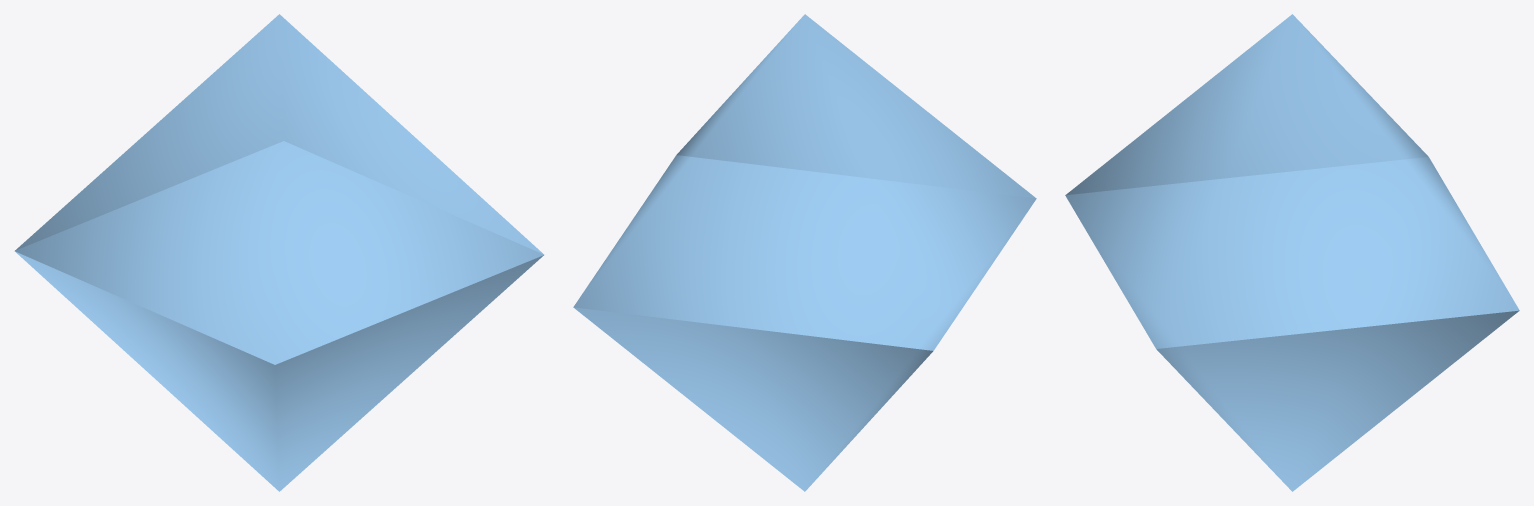
3 views of the same model, side by side, from view 1: azimuth 30°, elevation 25°; view 2: azimuth 150°, elevation 25°; view 3: azimuth 270°, elevation 25° (orthographic).
Size of the model in its own units: 5 by 5.8 by 5.
